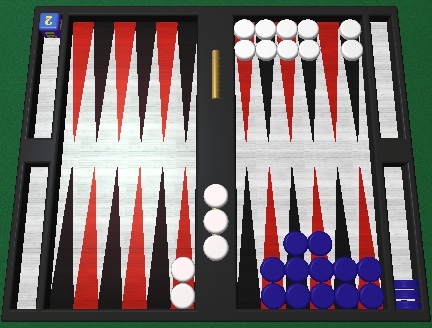checker: (333, 282, 360, 309), (202, 234, 228, 260), (310, 281, 334, 309), (203, 209, 228, 234), (357, 257, 381, 282), (308, 230, 332, 255), (203, 184, 228, 208), (357, 283, 381, 308), (285, 258, 309, 282), (309, 257, 333, 281), (286, 284, 310, 308), (171, 284, 195, 308), (171, 257, 195, 281), (261, 258, 285, 282), (284, 231, 308, 255), (254, 38, 278, 62), (262, 283, 285, 308), (332, 257, 357, 280), (339, 17, 363, 40), (340, 40, 364, 61), (298, 38, 320, 60), (233, 38, 255, 59), (233, 18, 255, 39), (255, 18, 276, 39), (277, 39, 299, 59), (277, 18, 297, 39), (298, 19, 319, 39), (394, 288, 418, 299), (393, 278, 419, 287), (395, 301, 419, 308)
